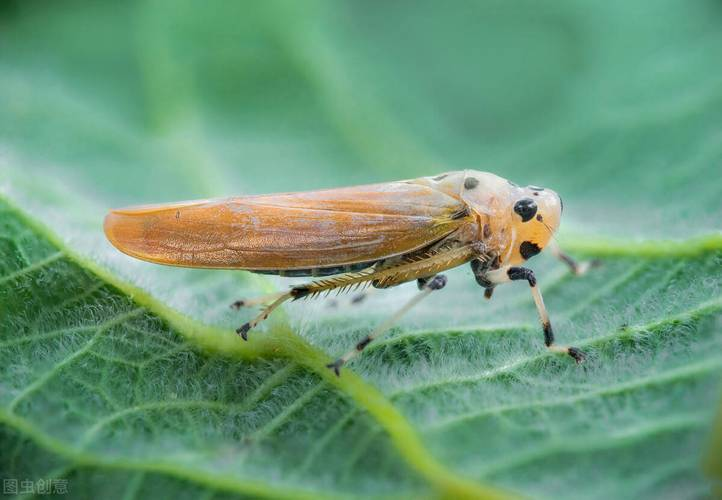Cicadellidae: (102, 170, 604, 363)
